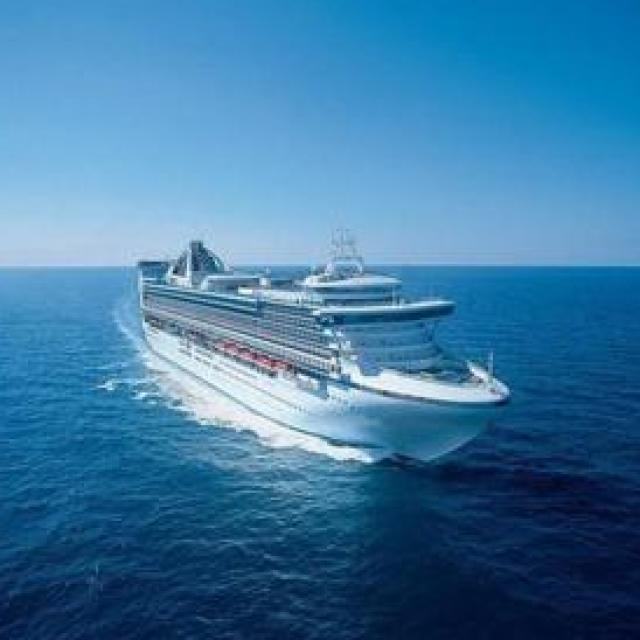passenger ship: (133, 233, 506, 461)
